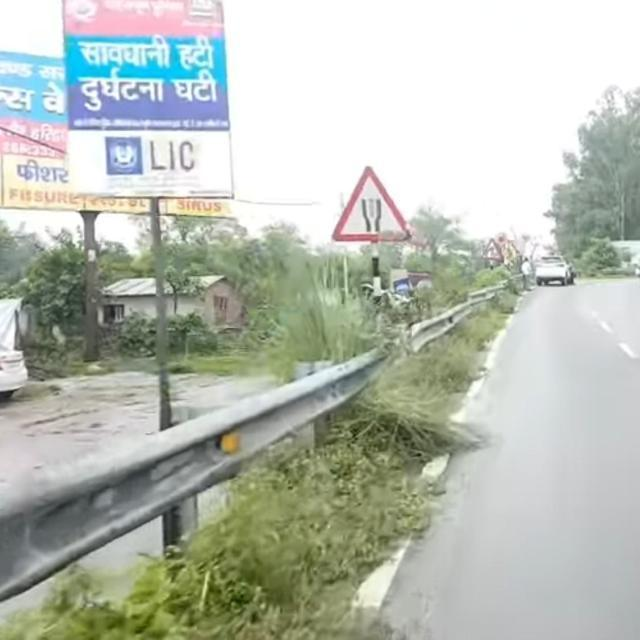road widens ahead: (330, 165, 414, 243)
